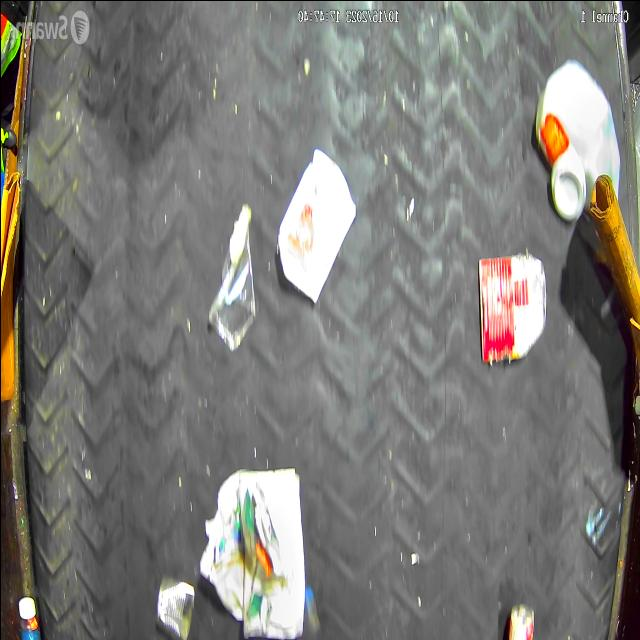can: (476, 249, 548, 369), (155, 575, 194, 632)
milk_jug: (535, 56, 617, 180)
